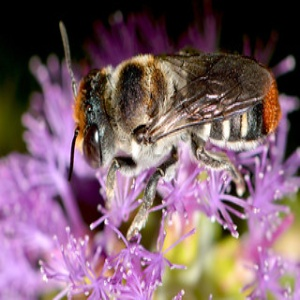bee: (61, 48, 285, 161)
